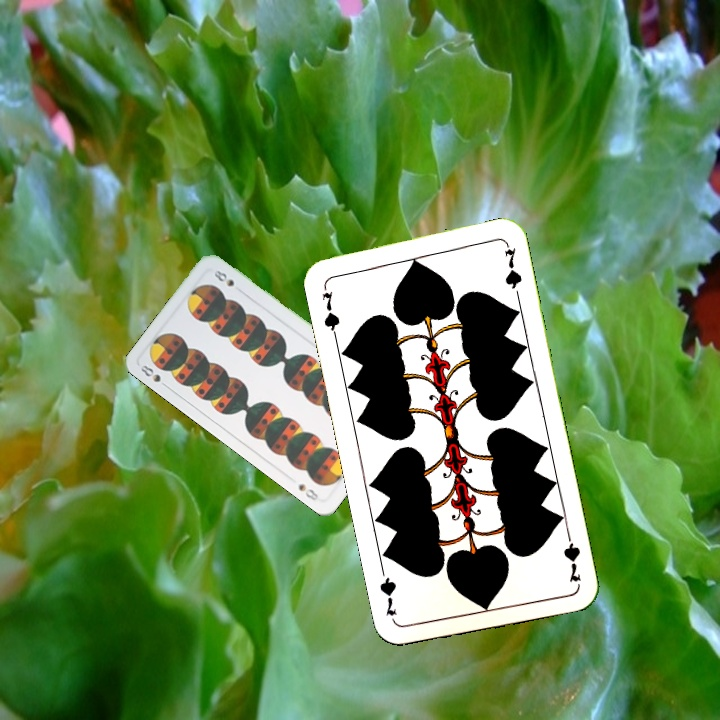G7: (317, 279, 343, 338), (559, 526, 584, 585)
S8: (136, 361, 172, 391)
